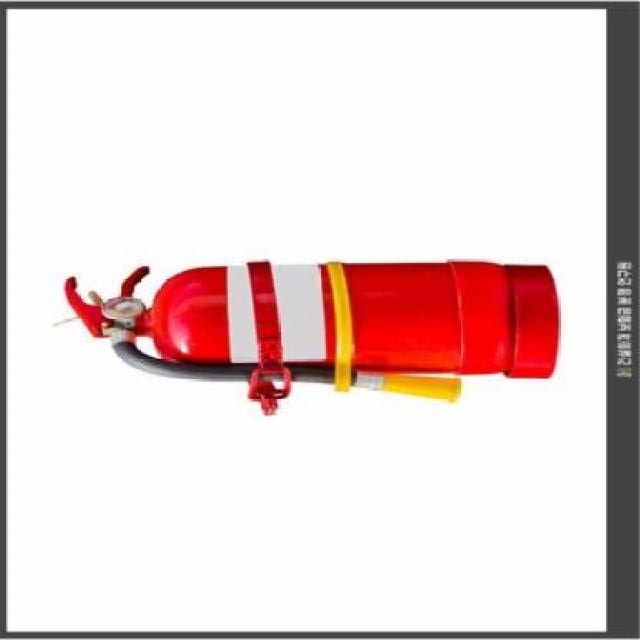fire extinguisher: (65, 260, 560, 415)
